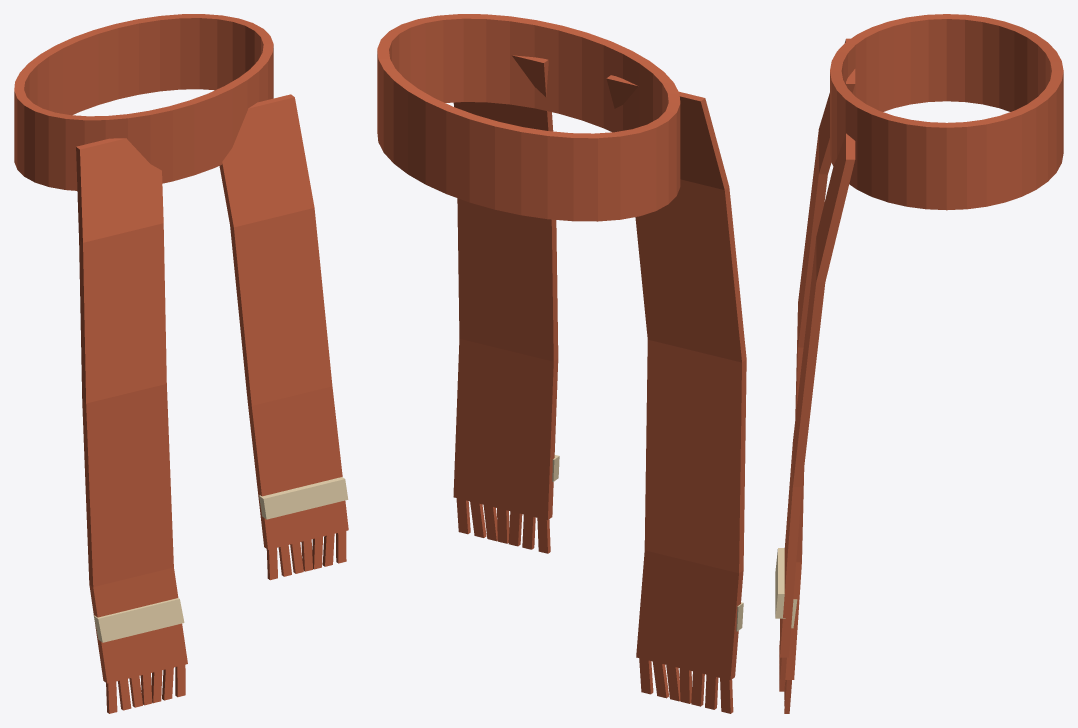
File: scarf_draped.glb
The picture shows the model from 3 angles, left to right: view 1: azimuth 30°, elevation 25°; view 2: azimuth 150°, elevation 25°; view 3: azimuth 270°, elevation 25°; orthographic projection. The views are drawn at different scales.
Visible parts, largest first — view 1: DrapedScarf_Long_End, DrapedScarf_Short_End, DrapedScarf_Neck_Wrap, DrapedScarf_Long_Stripe, DrapedScarf_Short_Stripe; view 2: DrapedScarf_Long_End, DrapedScarf_Neck_Wrap, DrapedScarf_Short_End; view 3: DrapedScarf_Neck_Wrap, DrapedScarf_Short_End, DrapedScarf_Long_End, DrapedScarf_Short_Stripe.
Boxes of the visible parts, x1=… form: DrapedScarf_Long_End: x1=76, y1=138, x2=187, y2=683; DrapedScarf_Short_End: x1=219, y1=94, x2=348, y2=549; DrapedScarf_Neck_Wrap: x1=14, y1=14, x2=273, y2=190; DrapedScarf_Long_Stripe: x1=94, y1=598, x2=184, y2=642; DrapedScarf_Short_Stripe: x1=259, y1=477, x2=348, y2=519; DrapedScarf_Long_End: x1=606, y1=75, x2=746, y2=680; DrapedScarf_Neck_Wrap: x1=377, y1=14, x2=680, y2=221; DrapedScarf_Short_End: x1=453, y1=55, x2=558, y2=520; DrapedScarf_Neck_Wrap: x1=830, y1=14, x2=1063, y2=210; DrapedScarf_Short_End: x1=780, y1=133, x2=855, y2=657; DrapedScarf_Long_End: x1=785, y1=38, x2=855, y2=679; DrapedScarf_Short_Stripe: x1=775, y1=548, x2=785, y2=618.
Bounding box in the file's own units: 0.262 × 0.569 × 0.222.
